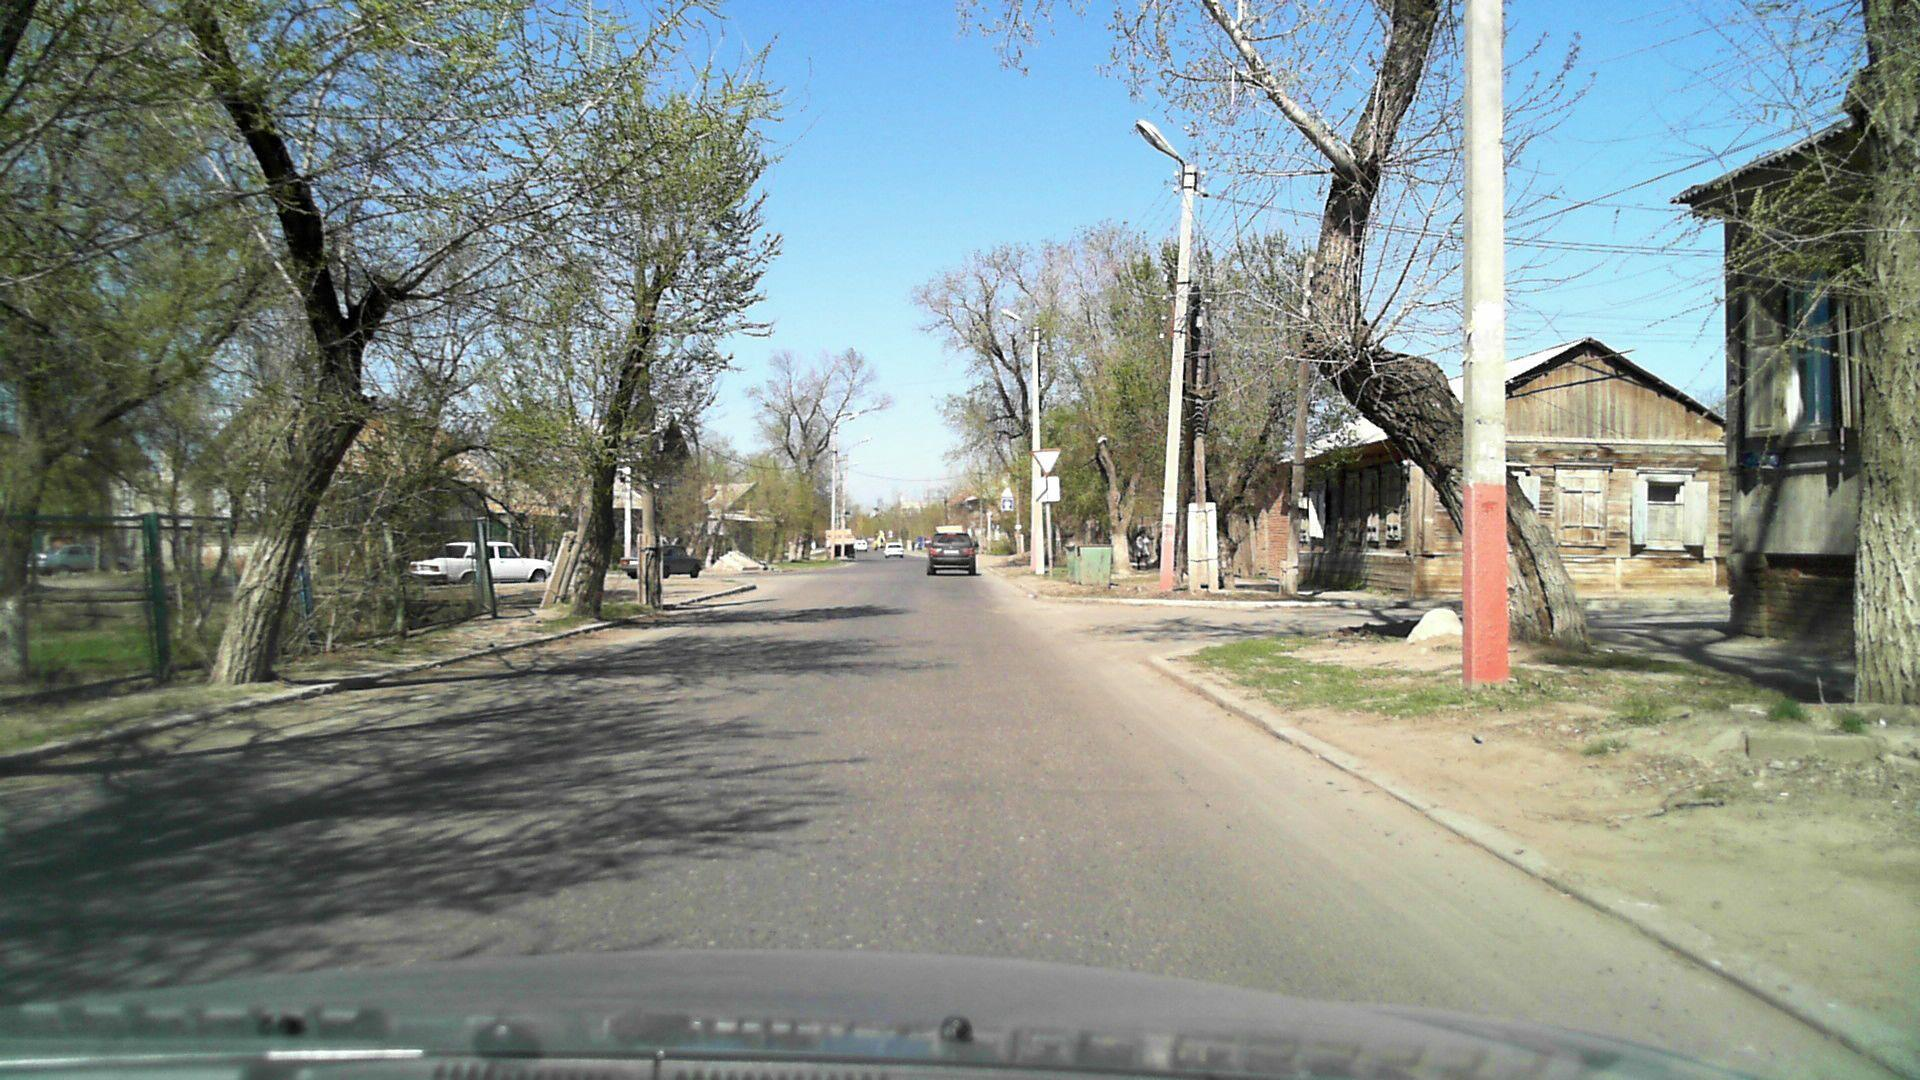2_4: (1030, 450, 1062, 476)
8_13: (1033, 477, 1063, 503)
